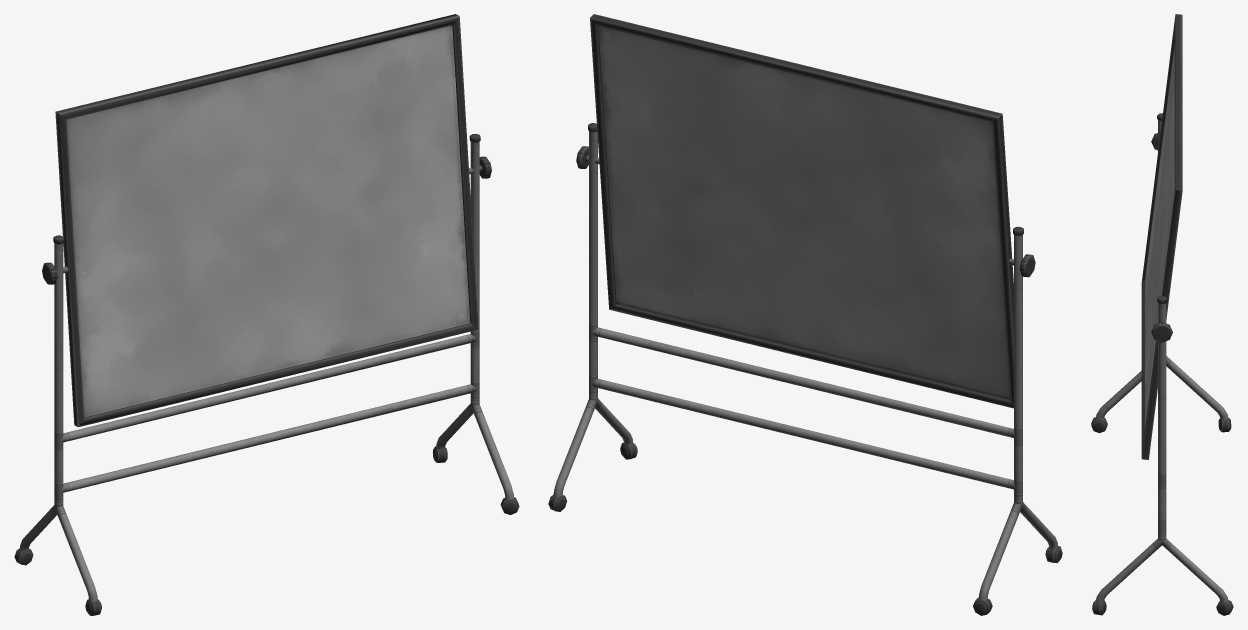
Rendered from whiteboard_freestanding_large.dae.
3 views of the same model, side by side, from view 1: azimuth 30°, elevation 25°; view 2: azimuth 150°, elevation 25°; view 3: azimuth 270°, elevation 25° (orthographic). The views are drawn at different scales.
Parts seen in each view (by area): view 1: low; view 2: low; view 3: low.
Boxes of the visible parts, left/top/right/bottom form: low: left=14, top=14, right=519, bottom=615; low: left=548, top=14, right=1062, bottom=615; low: left=1091, top=14, right=1233, bottom=615.
Size of the model in its own units: 1.69 by 1.72 by 0.5278.
